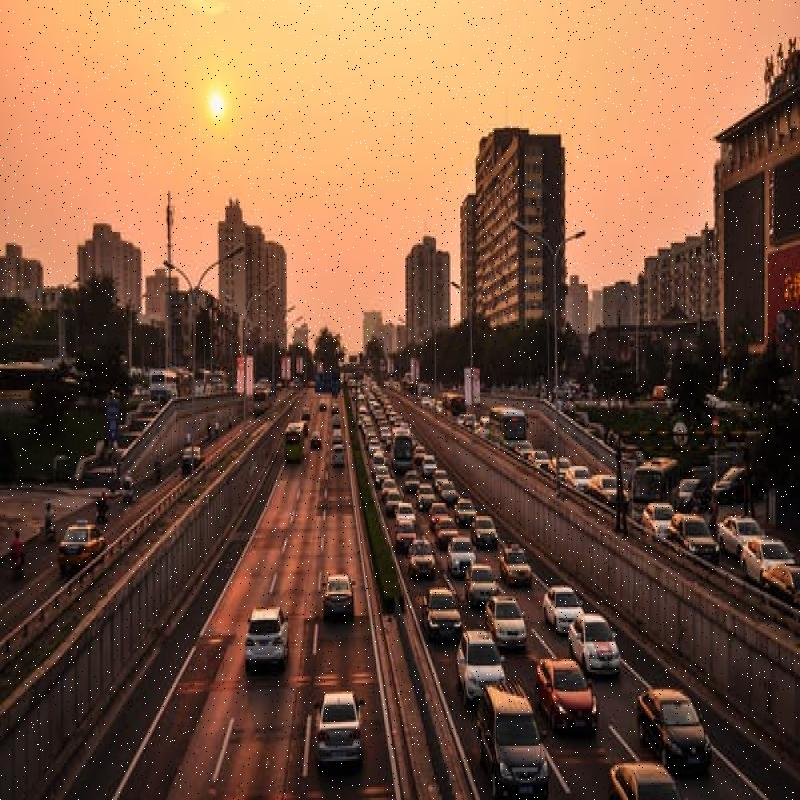car: (482, 681, 543, 786), (310, 678, 370, 771), (640, 678, 705, 761), (547, 645, 605, 724), (238, 595, 296, 666), (576, 609, 627, 683), (595, 761, 685, 800), (456, 629, 496, 709), (425, 587, 462, 666), (316, 573, 361, 633), (407, 537, 443, 599), (485, 588, 526, 641), (540, 570, 576, 628), (472, 486, 502, 550), (504, 532, 539, 584), (390, 504, 418, 552), (466, 551, 491, 598)
